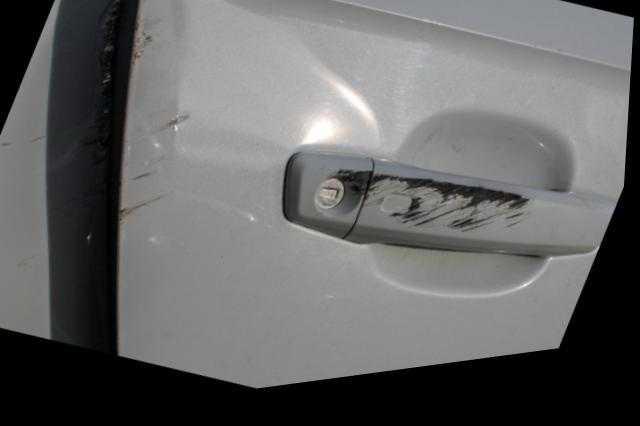scratch: (337, 175, 539, 247), (121, 110, 196, 225), (92, 0, 119, 193)
